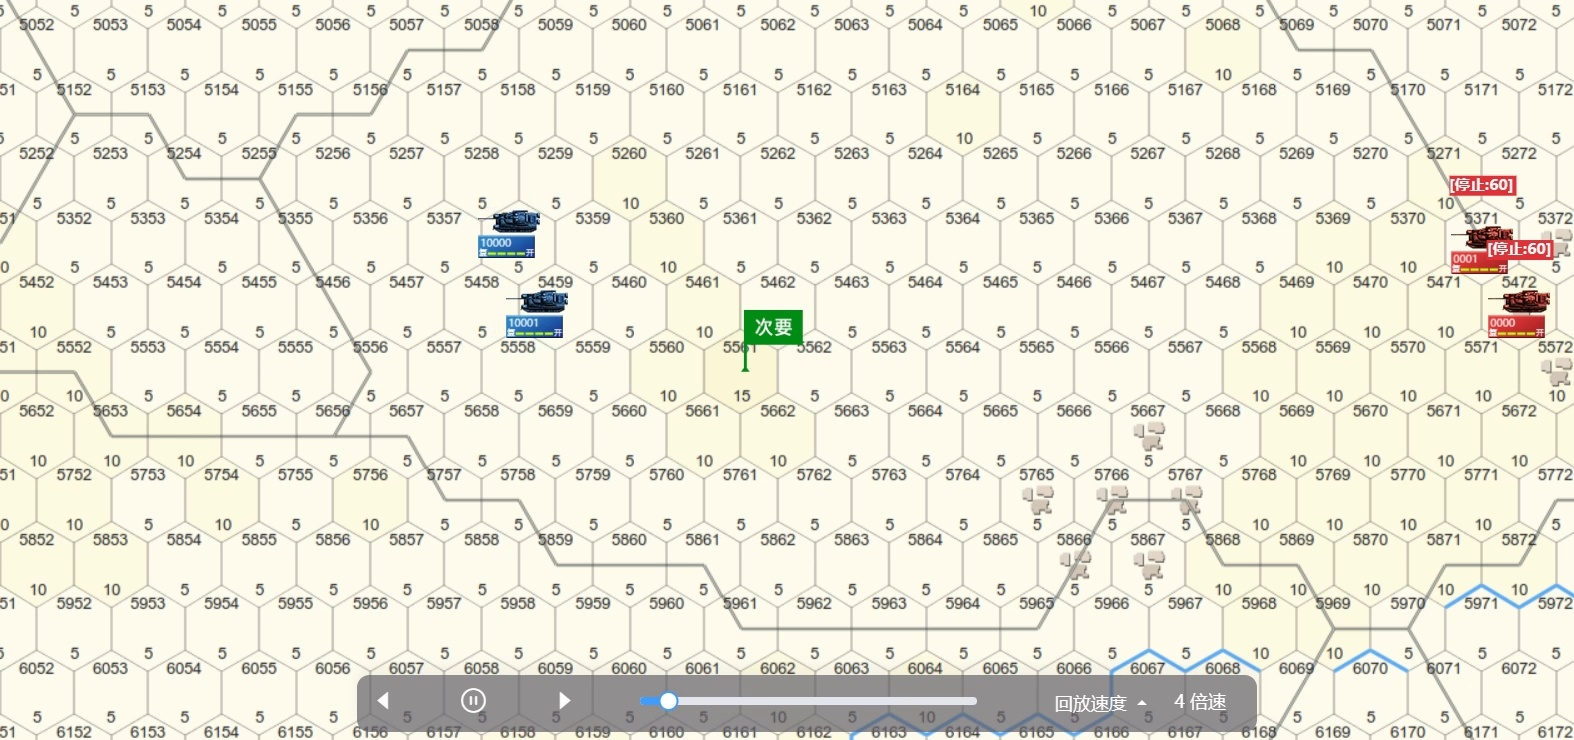blue_tank: (518, 289, 569, 337), (483, 214, 542, 253)
red_tank: (1442, 228, 1516, 277), (1488, 285, 1556, 337)
